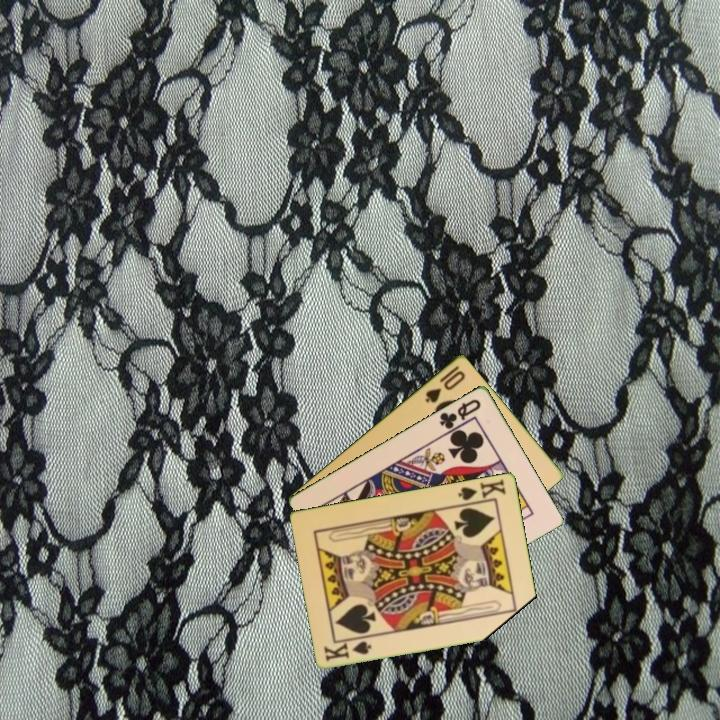10s: (421, 362, 468, 406)
Ks: (455, 475, 509, 507), (321, 637, 374, 664)
Qc: (436, 395, 484, 432)
